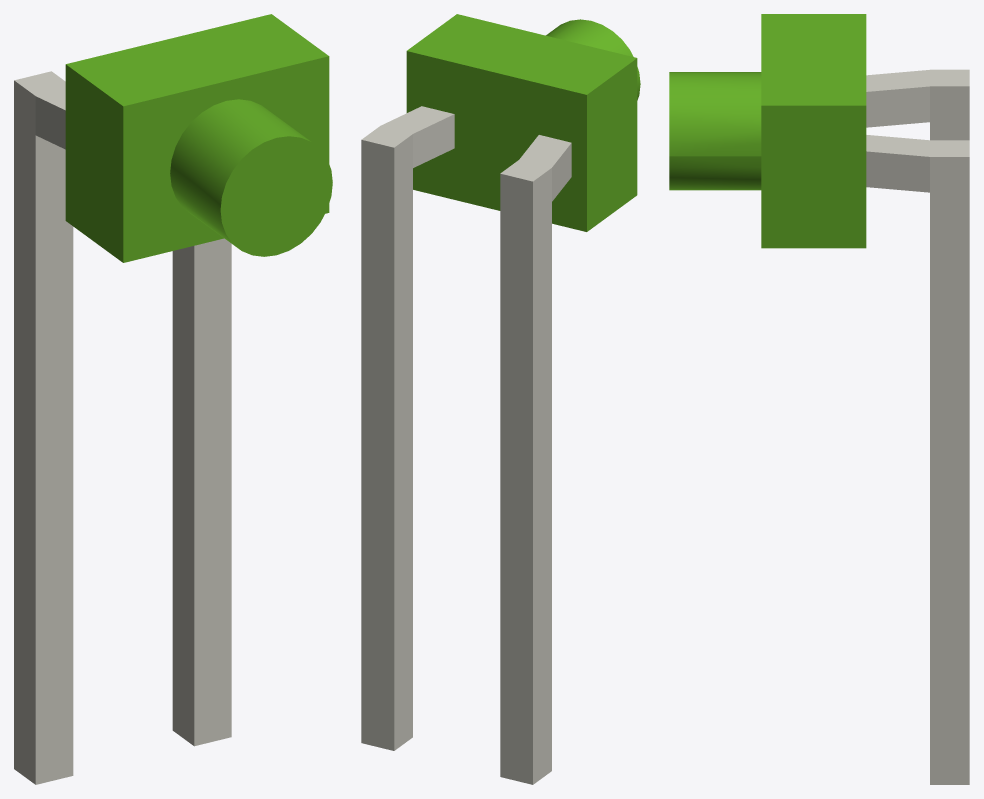
File: kc-led_d1.8mm_w1.8mm_h2.4mm_horizontal_o1.27mm_z8.2mm.glb
The picture shows the model from 3 angles, left to right: view 1: azimuth 30°, elevation 25°; view 2: azimuth 150°, elevation 25°; view 3: azimuth 270°, elevation 25°; orthographic projection. The views are drawn at different scales.
Visible parts, largest first — view 1: 0.6666666666666666_0.6666666666666666_0.5833333333333334_0.8, 0.16666666666666666_0.4166666666666667_0_0; view 2: 0.6666666666666666_0.6666666666666666_0.5833333333333334_0.8, 0.16666666666666666_0.4166666666666667_0_0; view 3: 0.16666666666666666_0.4166666666666667_0_0, 0.6666666666666666_0.6666666666666666_0.5833333333333334_0.8.
Boxes of the visible parts, x1,y1,x2,y2 form: 0.6666666666666666_0.6666666666666666_0.5833333333333334_0.8: (14,71,231,784); 0.16666666666666666_0.4166666666666667_0_0: (65,14,332,262); 0.6666666666666666_0.6666666666666666_0.5833333333333334_0.8: (361,106,571,784); 0.16666666666666666_0.4166666666666667_0_0: (406,14,640,231); 0.16666666666666666_0.4166666666666667_0_0: (669,14,866,248); 0.6666666666666666_0.6666666666666666_0.5833333333333334_0.8: (866,69,969,784).
Bounding box in the file's own units: 0.33 × 1.14 × 0.457.
